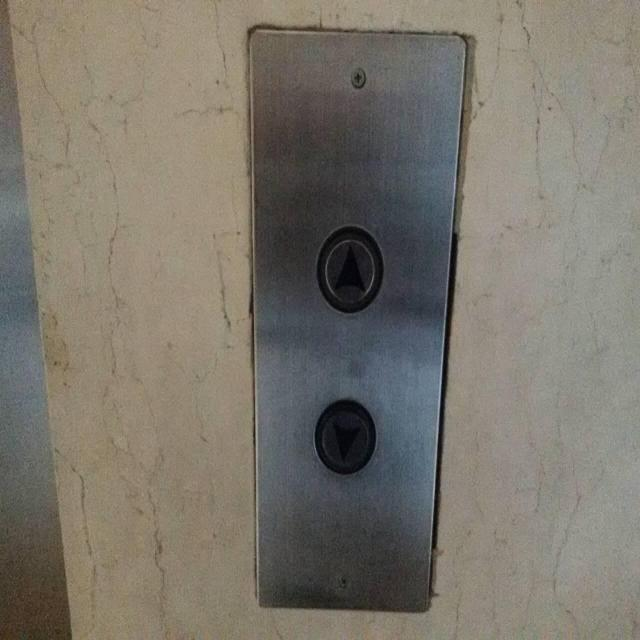down: (314, 399, 376, 474)
up: (316, 225, 384, 316)
